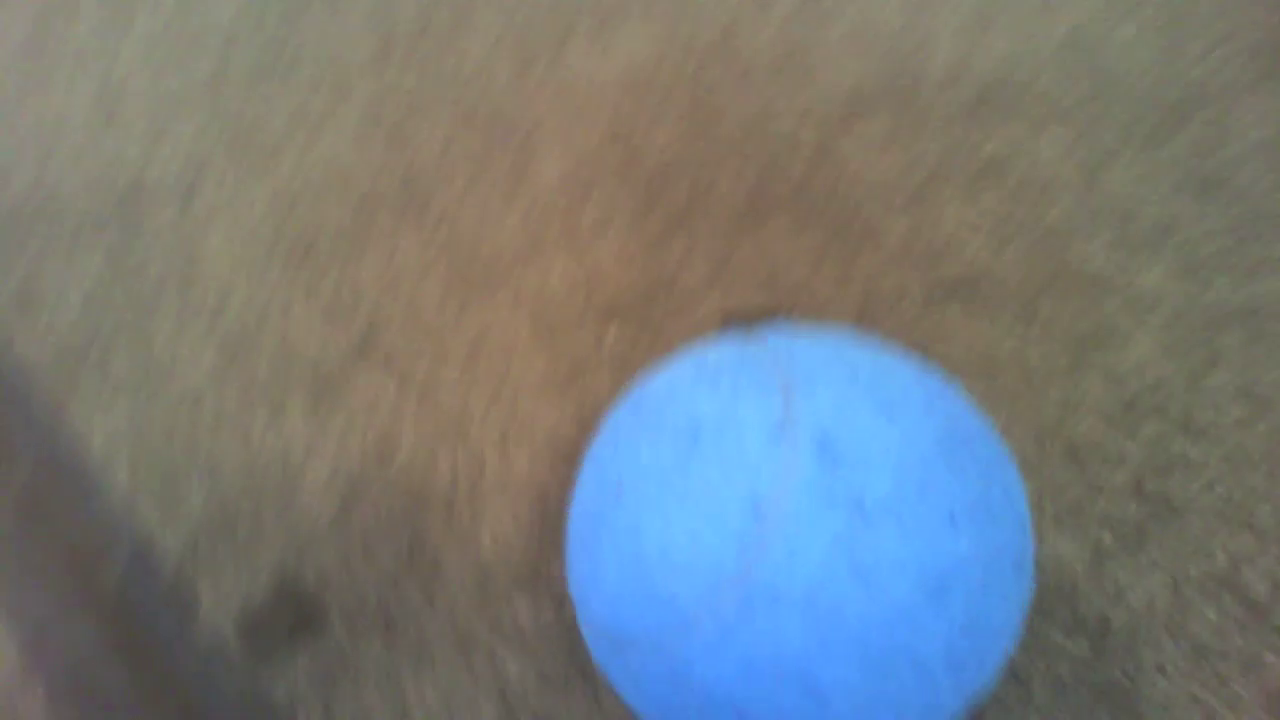blue_cargo: (546, 317, 1044, 720)
